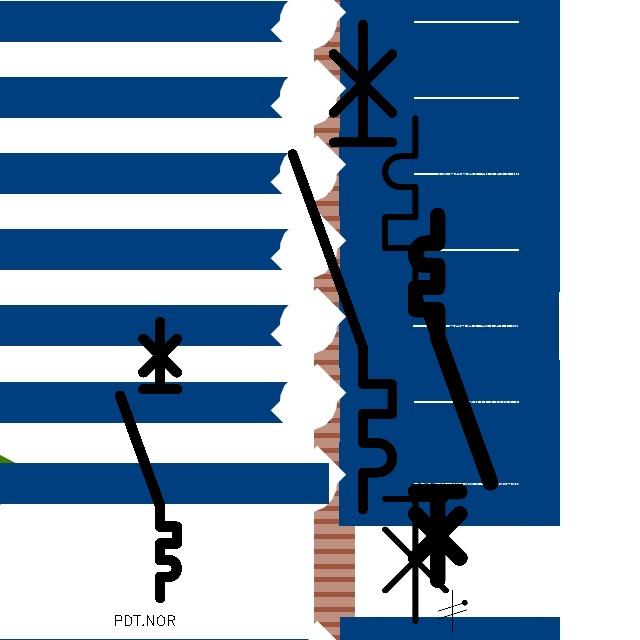interruptor_termomagnetico: (372, 105, 501, 634), (280, 12, 405, 522), (406, 206, 500, 590), (113, 315, 184, 605)
